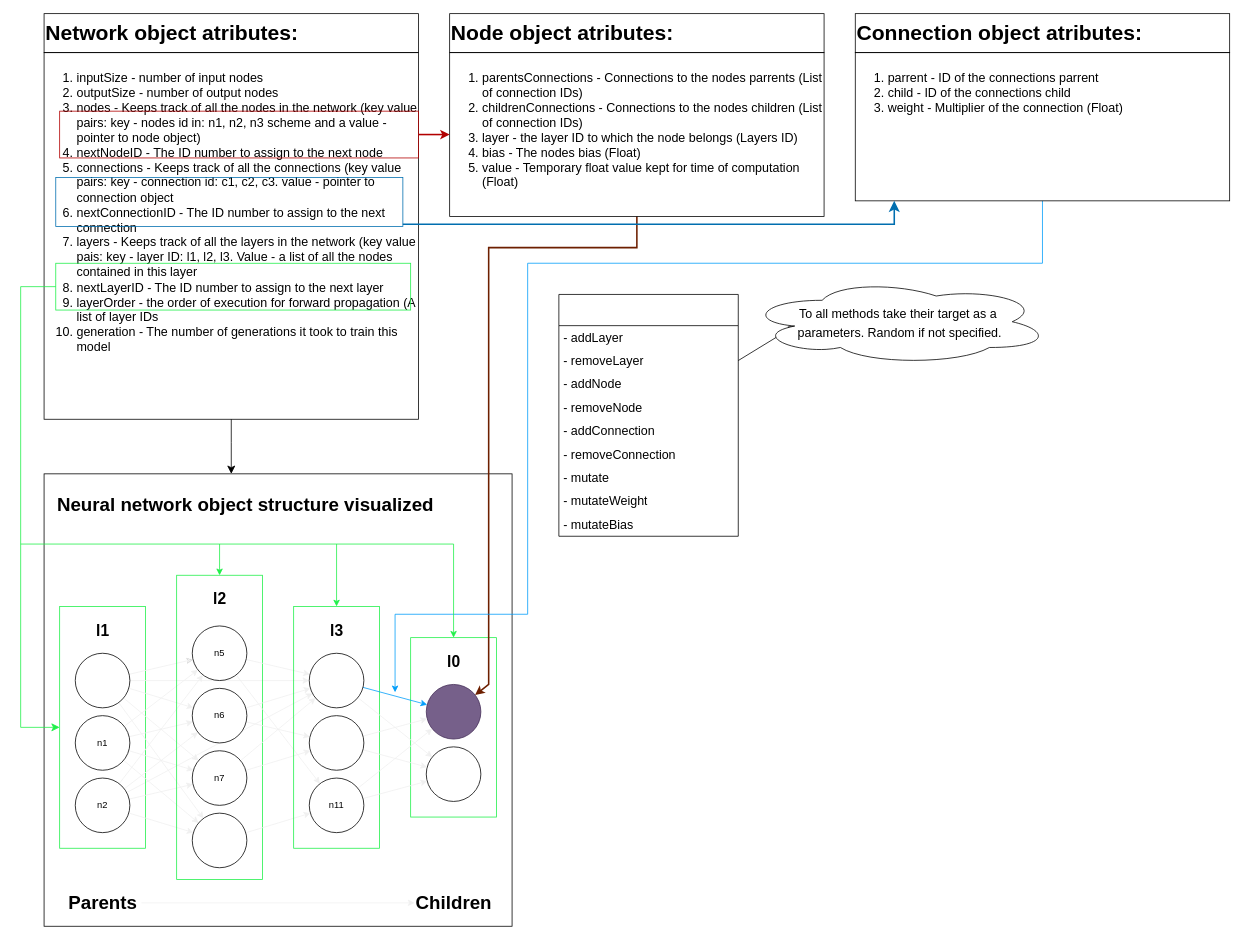
This 1243x940 diagram has some shape labels left out. The shapes that lost their labels are listed below. From the top down, each one's box as (x1, y1, x2, y2) in pixels, then its label:
(558, 294, 738, 536): Network methods:
(74, 652, 130, 708): n0
(308, 652, 364, 708): n9
(425, 684, 481, 739): n3
(308, 715, 364, 770): n10
(425, 746, 481, 801): n4
(191, 812, 247, 868): n8
